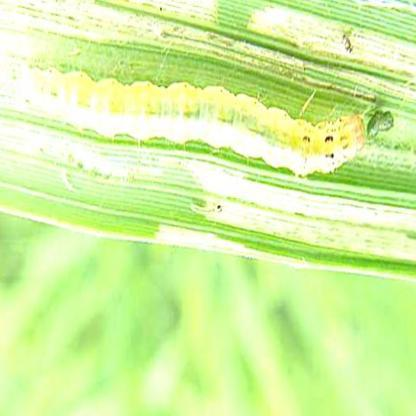leaf-folder: (18, 42, 371, 200)
